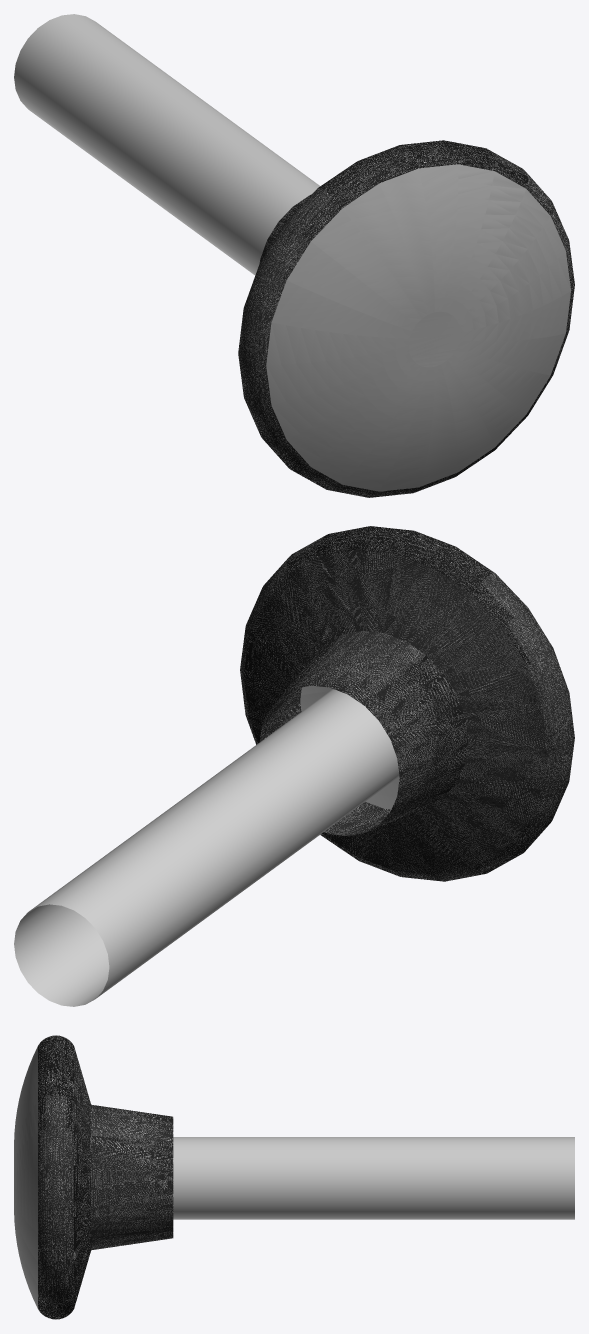
File: palanca.obj
3 renders of one model, top to bottom at view 1: azimuth 30°, elevation 25°; view 2: azimuth 150°, elevation 25°; view 3: azimuth 270°, elevation 25°, orthographic. The views are drawn at different scales.
Parts seen in each view (by area): view 1: polySurface40; view 2: polySurface40; view 3: polySurface40.
Part boxes in pixels (<box>): polySurface40: <box>14,14,574,497</box>; polySurface40: <box>14,526,574,1006</box>; polySurface40: <box>14,1035,574,1319</box>.
Bounding box in the file's own units: 3.23 × 3.23 × 6.35.
